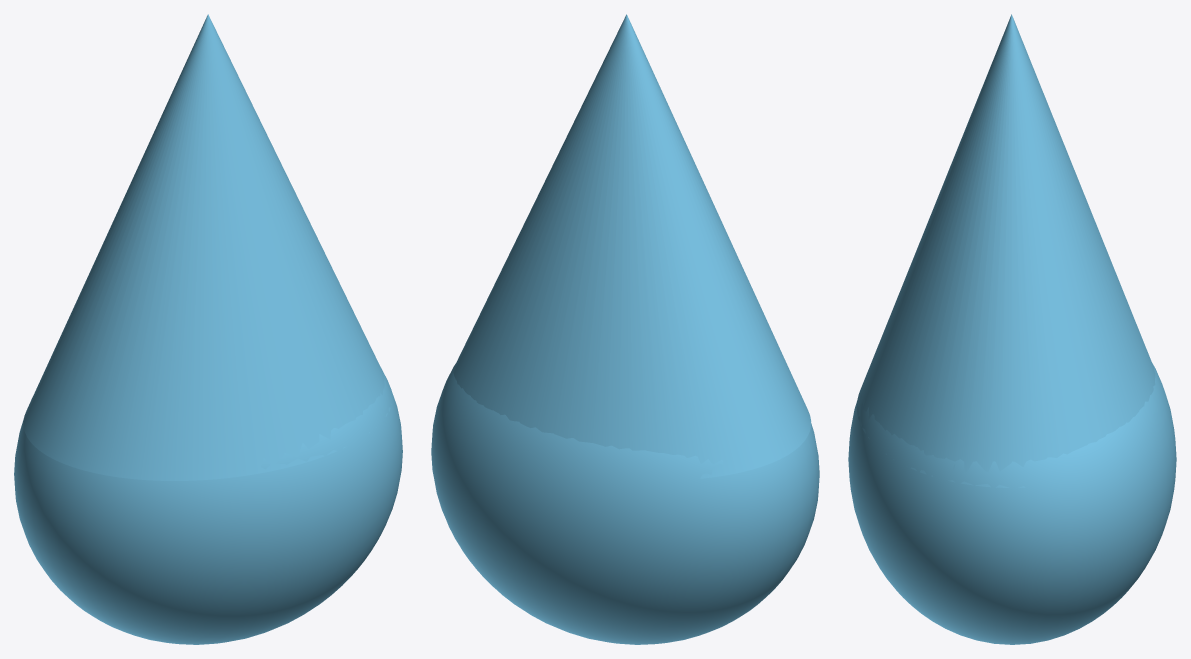
The model's file is buena.glb.
The picture shows the model from 3 angles, left to right: view 1: azimuth 30°, elevation 25°; view 2: azimuth 150°, elevation 25°; view 3: azimuth 270°, elevation 25°; orthographic projection.
Visible parts, largest first — view 1: Object_7, Object_5; view 2: Object_7, Object_5; view 3: Object_7, Object_5.
Part boxes in pixels (x1,y1,x2,y2): Object_7: [23, 14, 392, 480]; Object_5: [14, 368, 402, 644]; Object_7: [453, 14, 811, 478]; Object_5: [431, 364, 819, 644]; Object_7: [856, 14, 1155, 487]; Object_5: [848, 363, 1176, 644].
Size of the model in its own units: 1.41 by 2.36 by 1.15.
Materials: 2 (2 with a texture image).
